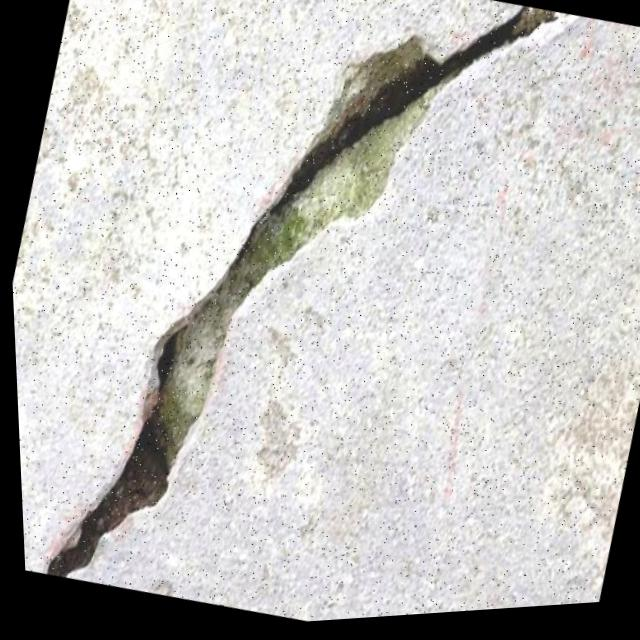Crack: (14, 0, 597, 639)
